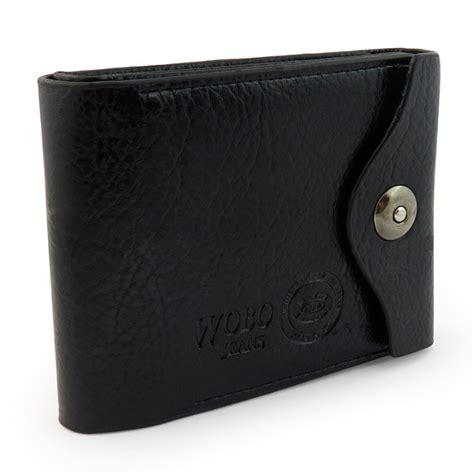cuero: (35, 46, 437, 436)
